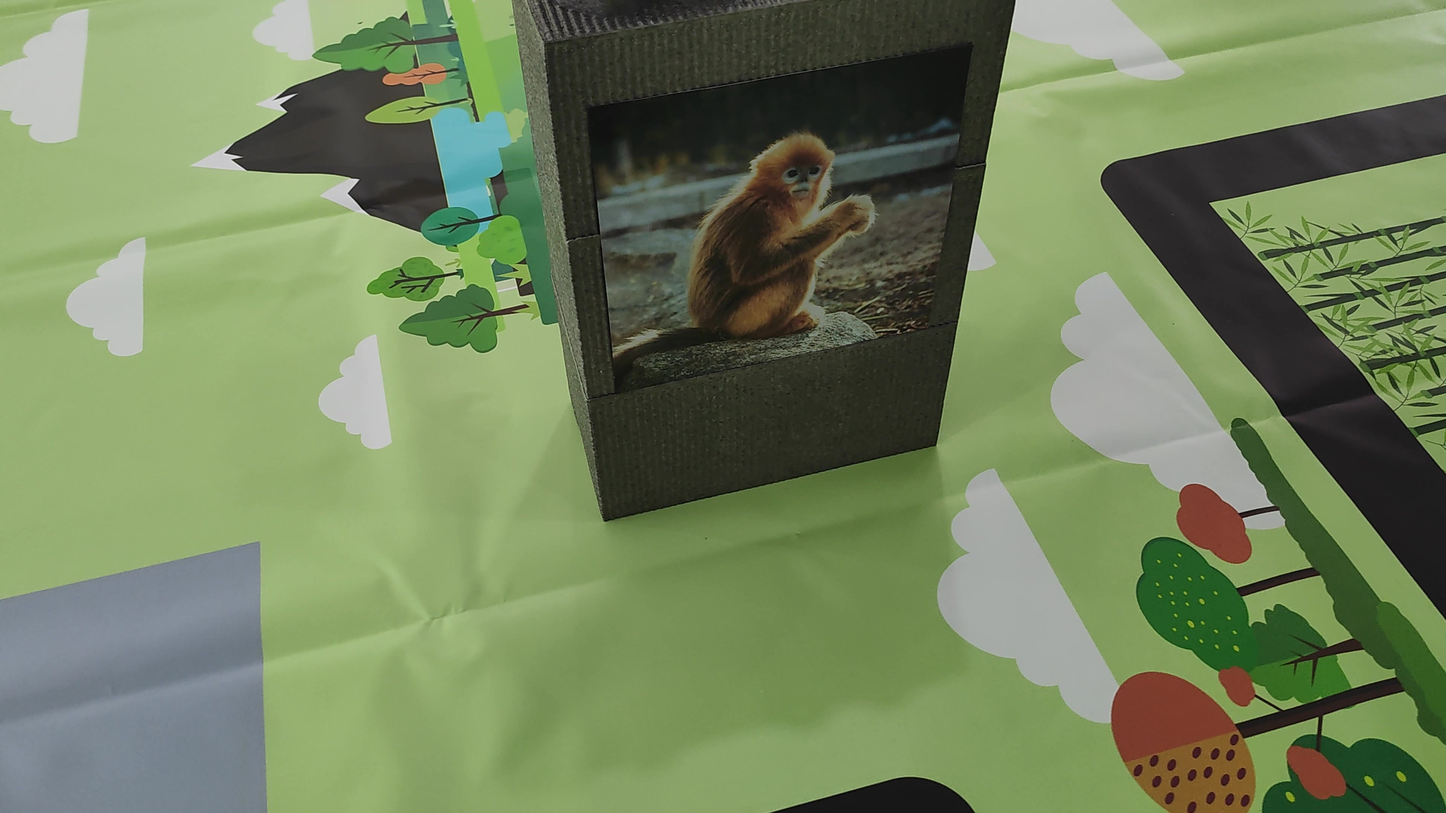monkey: (631, 101, 928, 357)
